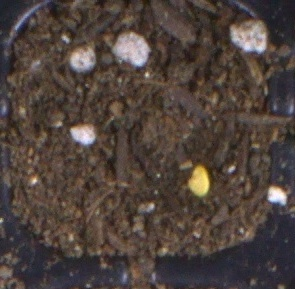chilli seed: (186, 164, 210, 197)
